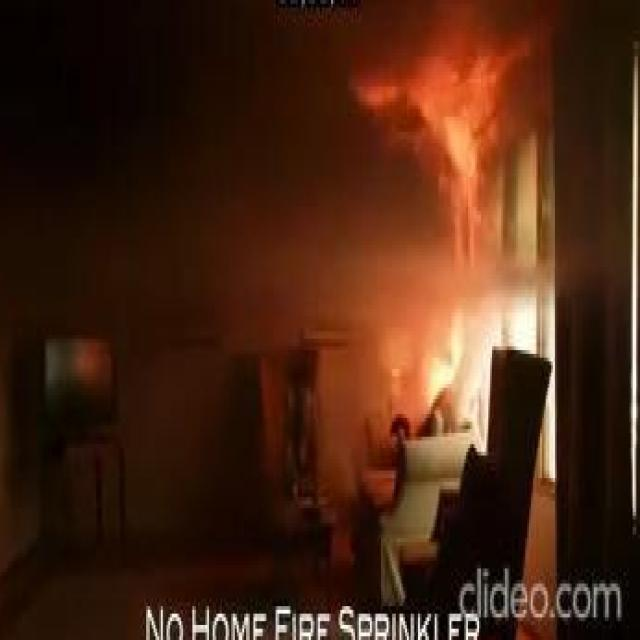smoke: (402, 60, 488, 207), (420, 358, 457, 407), (450, 312, 476, 369)
